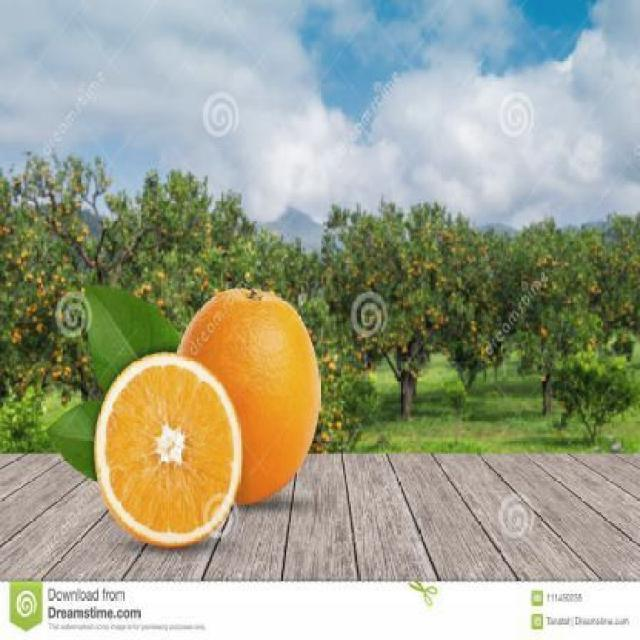Jeruk Sudah Matang: (172, 284, 326, 506)
